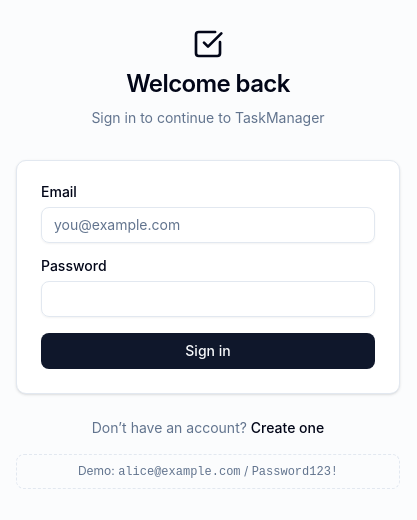
LoginPage › shows a validation error for an empty password
Type "alice@example.com" into the field labelled "Email" at {"x": 208, "y": 224}, box 41,206 -> 375,242
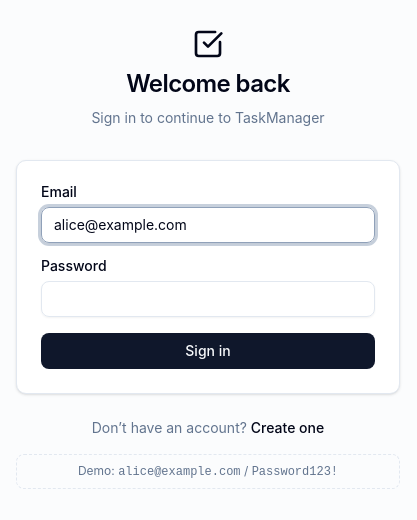
Click the button "Sign in" at {"x": 208, "y": 350}, box 41,332 -> 375,368
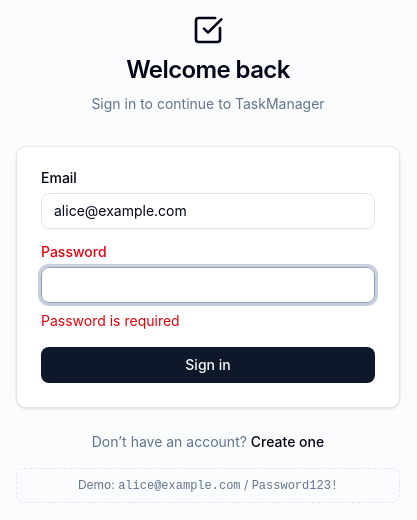
Now the text "Password is required" is shown, box 41,312 -> 180,328
